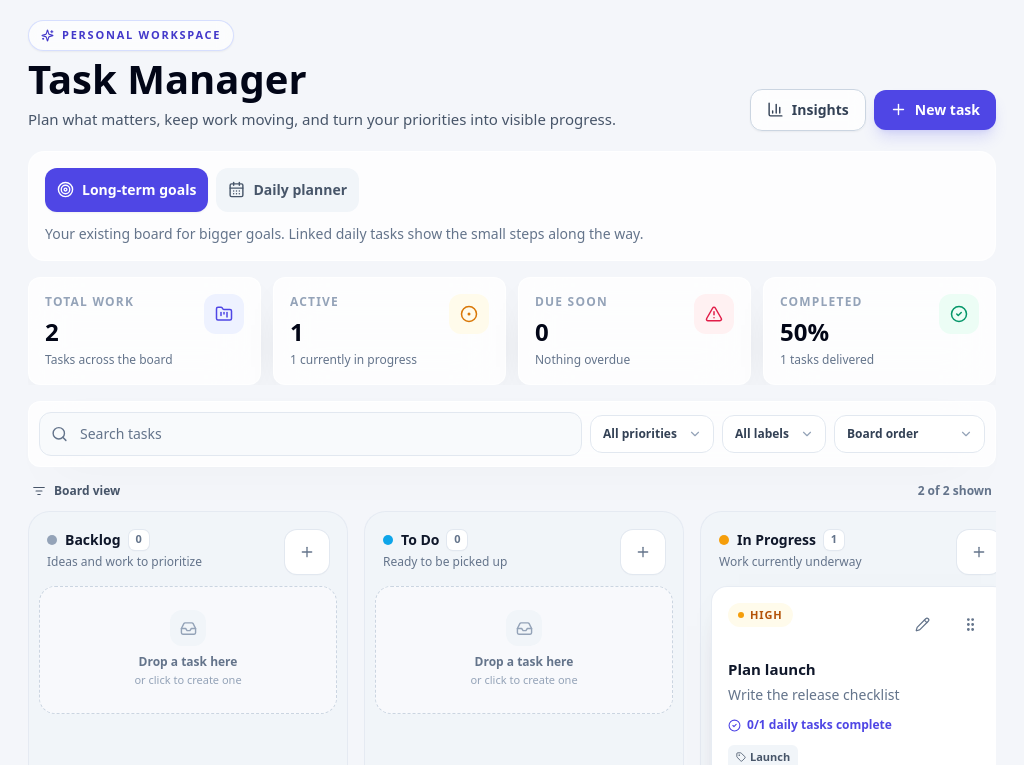
Test: separates daily work, filters calendar days, and opens its linked goal
The image size is (1024, 765).
Expected: the heading "Plan launch" is shown, top-left (728, 658), bottom-right (816, 678)
Expected: the text "Draft the launch email" is not shown
Click the button "Daily planner" at (288, 190), box top-left (216, 168), bottom-right (359, 212)
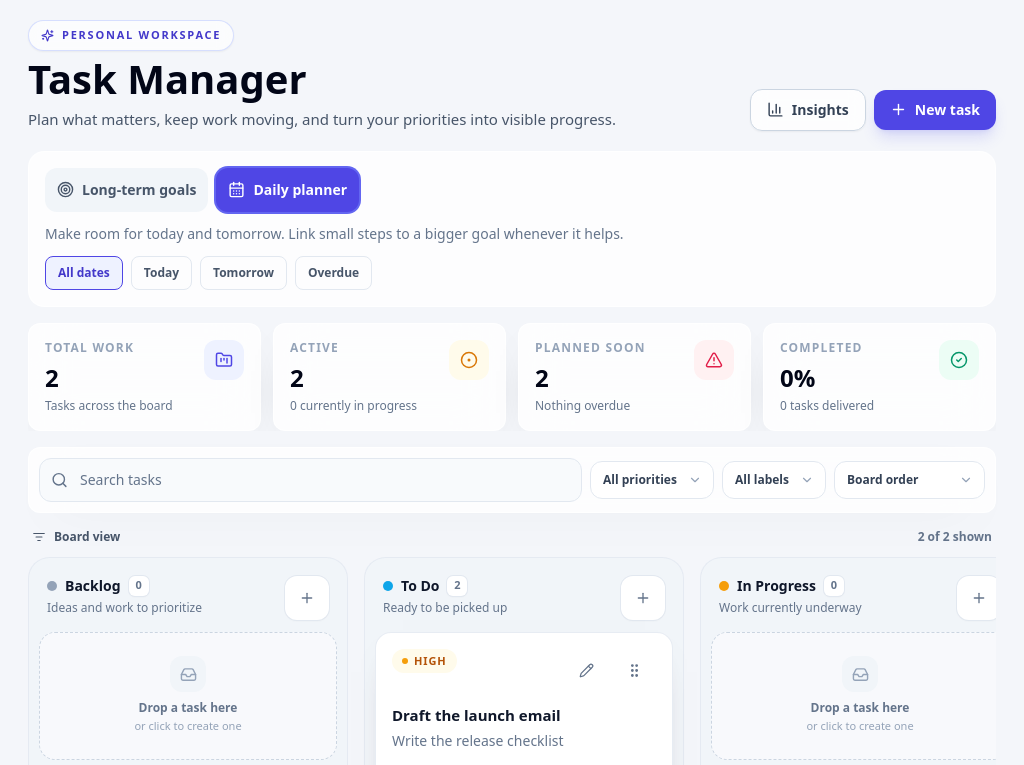
Expected: the text "2 of 2 shown" is shown, top-left (918, 528), bottom-right (992, 544)
Click the button "Today" at (161, 272), box top-left (131, 256), bottom-right (192, 290)
(page scrolled)
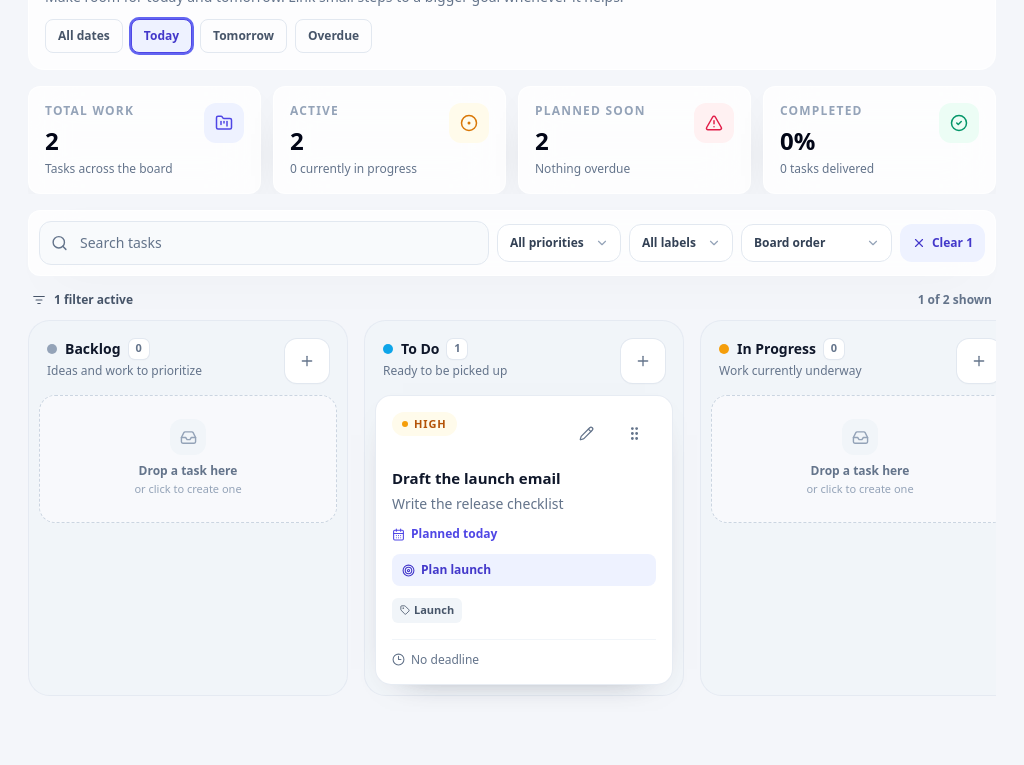
Expected: the heading "Draft the launch email" is shown, top-left (392, 468), bottom-right (561, 488)
Click the button with aria-label "Open linked goal: Plan launch" at (456, 570), box top-left (392, 554), bottom-right (656, 586)
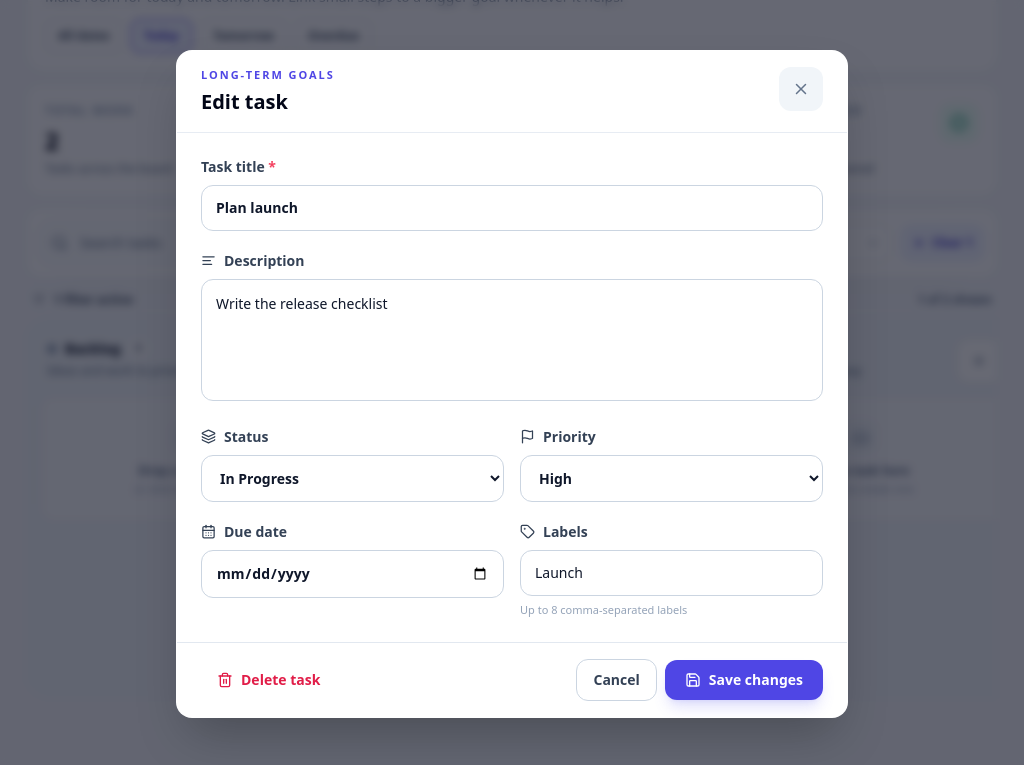
Expected: the field labelled "Task title *" holds "Plan launch", top-left (201, 184), bottom-right (823, 230)
Click the button named "Close task editor" at (801, 89), box top-left (779, 67), bottom-right (823, 111)
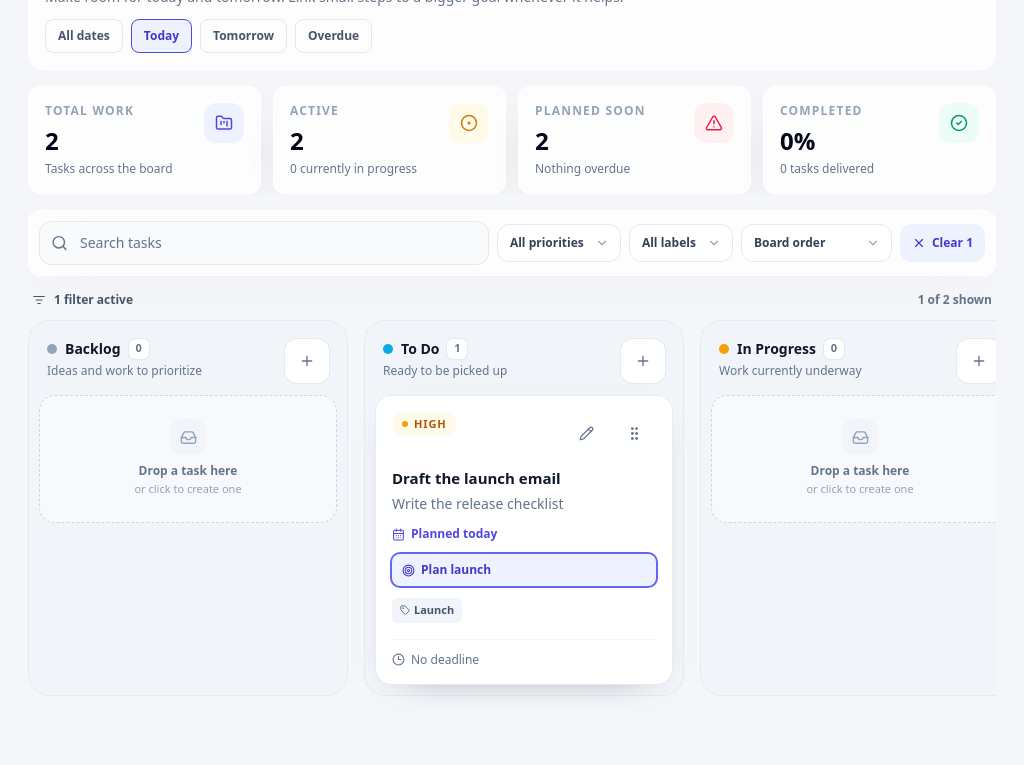
Click the button "Tomorrow" at (244, 36), box top-left (200, 18), bottom-right (287, 52)
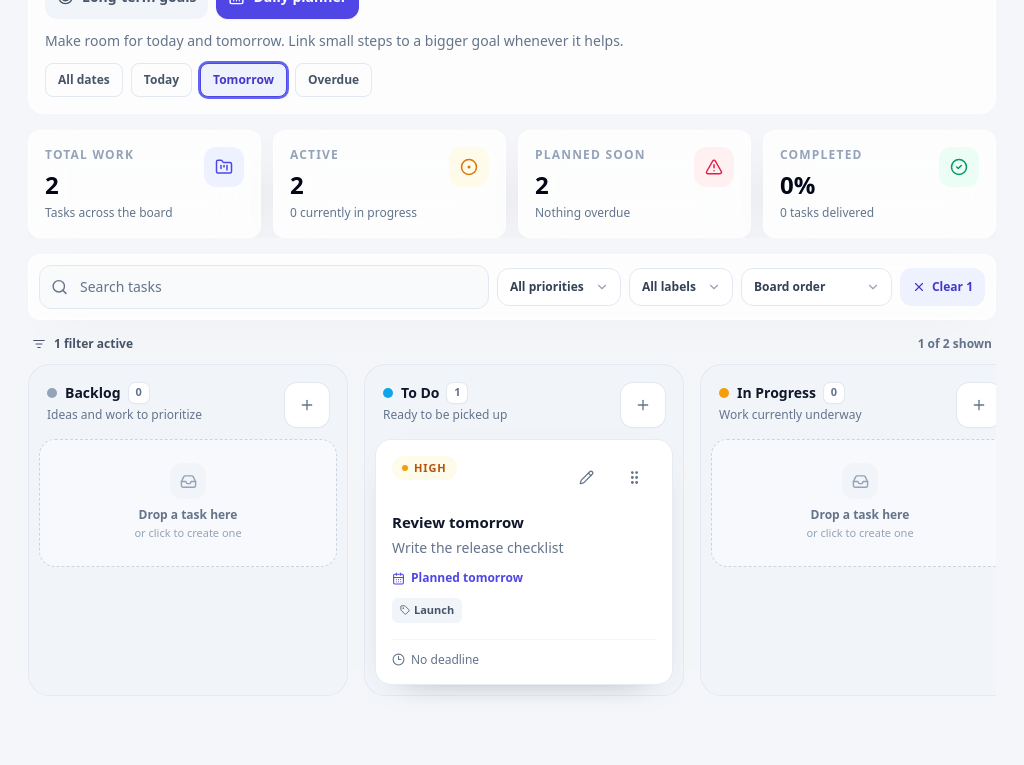
Expected: the heading "Review tomorrow" is shown, top-left (392, 512), bottom-right (524, 532)
Expected: the heading "Draft the launch email" is gone
